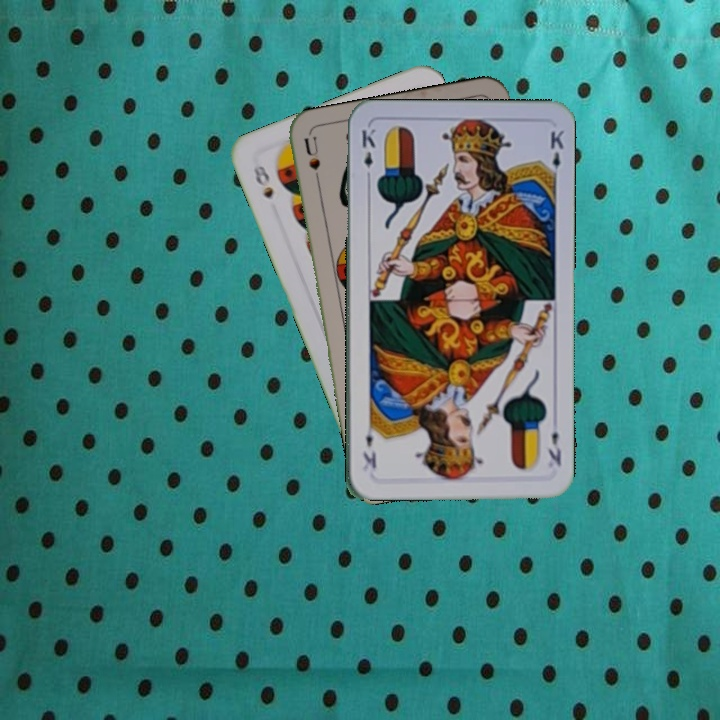EK: (358, 124, 379, 183), (544, 427, 564, 468)
S8: (249, 161, 276, 202)
SU: (300, 133, 324, 193)
